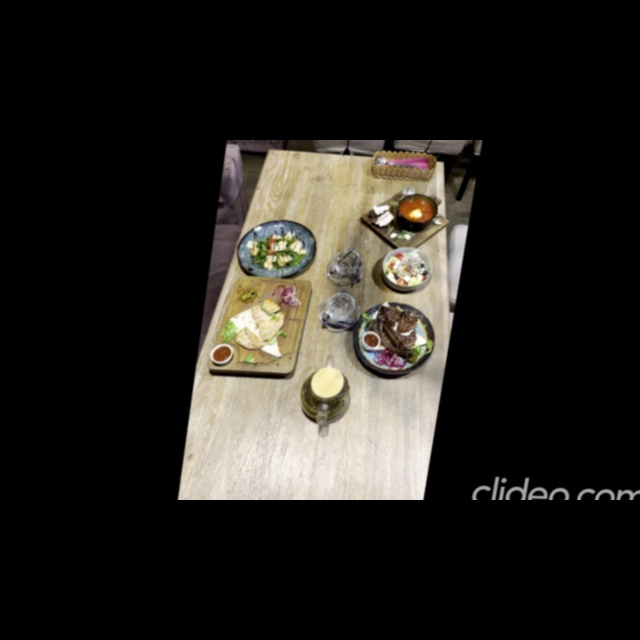Том ям: (356, 186, 455, 255)
графин с чаем: (296, 354, 356, 426)
закуска: (206, 275, 314, 380)
мясное блюдо: (348, 300, 442, 378)
салат: (233, 217, 320, 281)
салат цезарь: (378, 246, 435, 292)
